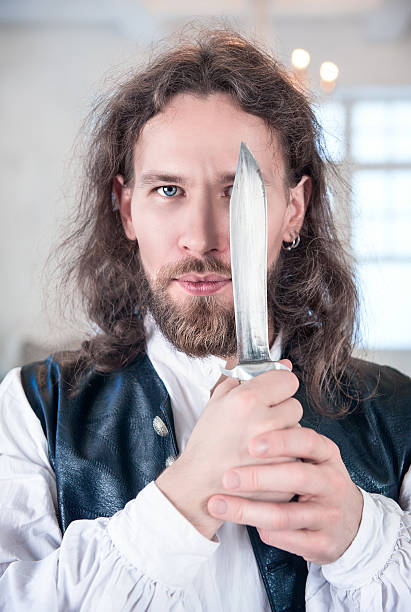knife: (224, 141, 284, 378)
